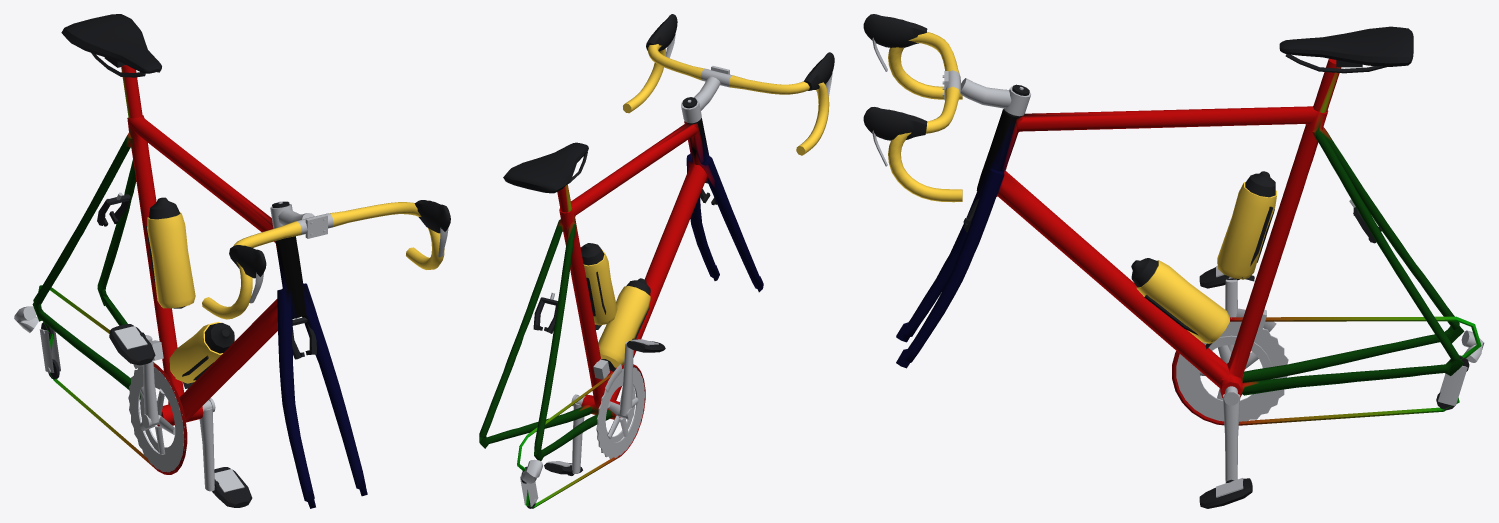
The model's file is retro.glb.
The picture shows the model from 3 angles, left to right: view 1: azimuth 30°, elevation 25°; view 2: azimuth 150°, elevation 25°; view 3: azimuth 270°, elevation 25°; orthographic projection. The views are drawn at different scales.
Parts seen in each view (by area): view 1: frame, cockpit, opt_bottles, crankset, saddle, opt_derailleur, pedal_R, pedal_L, opt_brakes_rim; view 2: frame, cockpit, opt_bottles, crankset, saddle, opt_derailleur, opt_brakes_rim, pedal_R; view 3: frame, cockpit, opt_bottles, crankset, saddle, opt_derailleur, pedal_L.
Boxes of the visible parts, box(x1,y1,x2,y2) form: frame: box(32, 65, 367, 508); cockpit: box(202, 200, 450, 319); opt_bottles: box(146, 197, 234, 388); crankset: box(128, 335, 215, 491); saddle: box(61, 14, 161, 77); opt_derailleur: box(14, 306, 163, 379); pedal_R: box(109, 324, 155, 365); pedal_L: box(212, 467, 252, 507); opt_brakes_rim: box(97, 192, 316, 359); frame: box(479, 117, 763, 508); cockpit: box(623, 14, 834, 155); opt_bottles: box(580, 243, 650, 371); crankset: box(571, 341, 644, 473); saddle: box(503, 142, 588, 193); opt_derailleur: box(520, 359, 621, 508); opt_brakes_rim: box(533, 181, 717, 333); pedal_R: box(626, 338, 665, 352); frame: box(896, 58, 1481, 425); cockpit: box(863, 14, 1031, 202); opt_bottles: box(1131, 171, 1276, 349); crankset: box(1176, 279, 1288, 482); saddle: box(1279, 26, 1413, 73); opt_derailleur: box(1236, 308, 1484, 410); pedal_L: box(1199, 478, 1252, 508).
Size of the model in its own units: 0.4648 by 0.8869 by 1.13.
